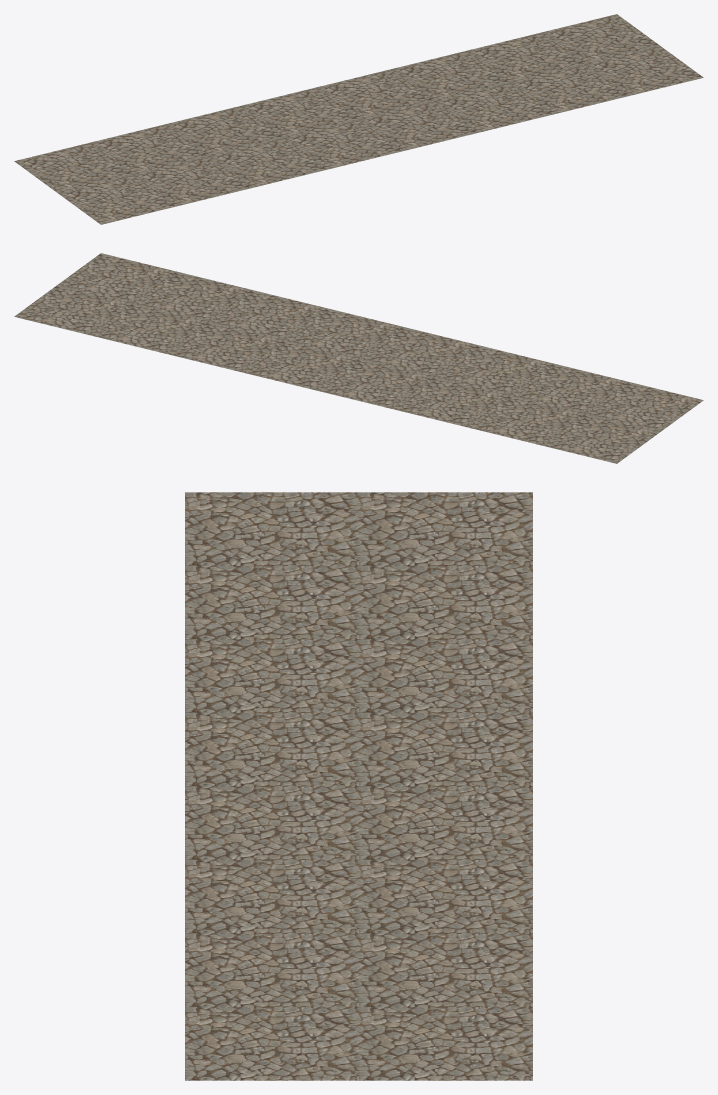
Rendered from groundTile1.fbx.
The picture shows the model from 3 angles, top to bottom: view 1: azimuth 30°, elevation 25°; view 2: azimuth 150°, elevation 25°; view 3: azimuth 270°, elevation 25°; orthographic projection. The views are drawn at different scales.
Visible parts, largest first — view 1: Lobby_Plane.003; view 2: Lobby_Plane.003; view 3: Lobby_Plane.003.
Boxes of the visible parts, box(x1,y1,x2,y2) form: Lobby_Plane.003: box(14, 14, 703, 224); Lobby_Plane.003: box(14, 253, 703, 463); Lobby_Plane.003: box(185, 492, 532, 1080).
Size of the model in its own units: 8 by 9.26e-07 by 2.
Materials: 16 (16 with a texture image).
